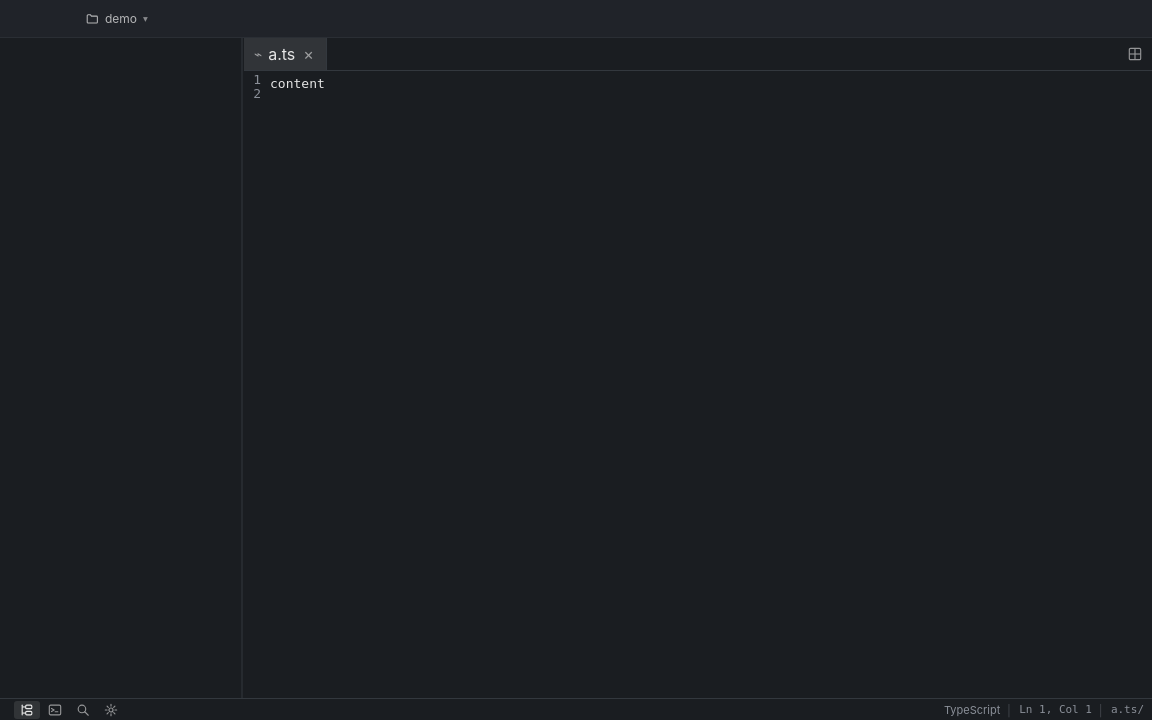
Test: App editor split panes (issue #158) › scenario 1: splitting a pane with a single open file duplicates that file into a second pane
This screenshot has width=1152, height=720.
Click the button named "Split editor": (1135, 54) [1122, 43, 1148, 65]
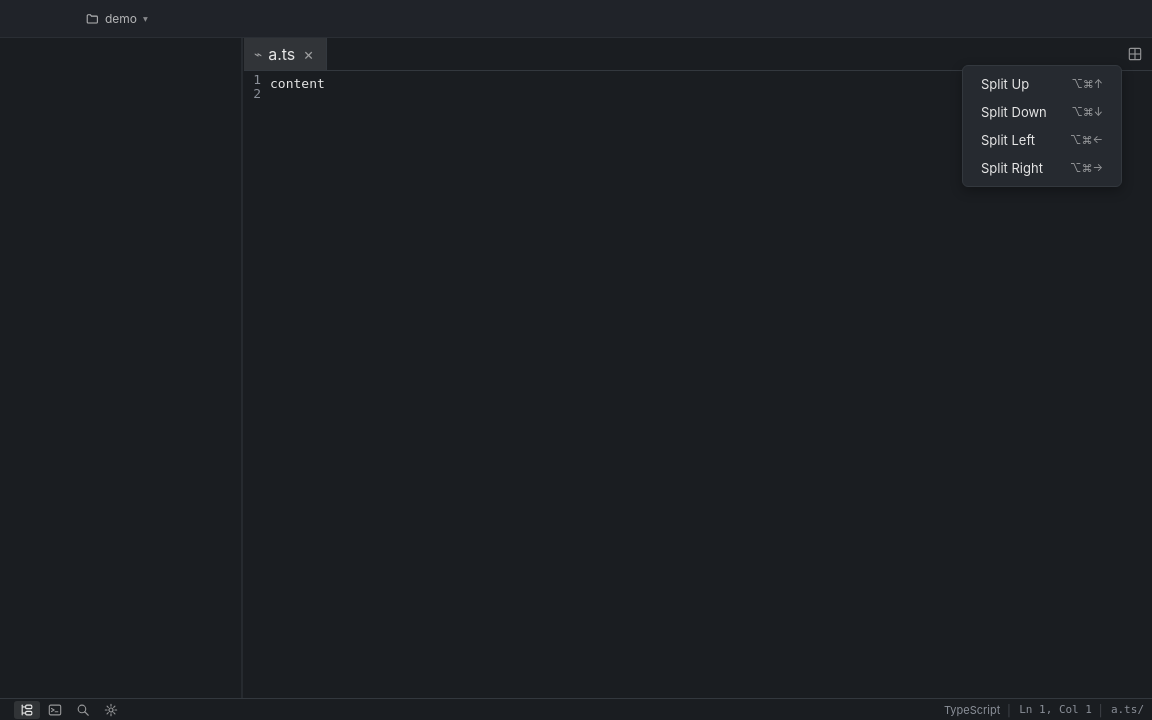
Click the menu item "Split Right ⌥⌘→": (1042, 168) [967, 154, 1117, 182]
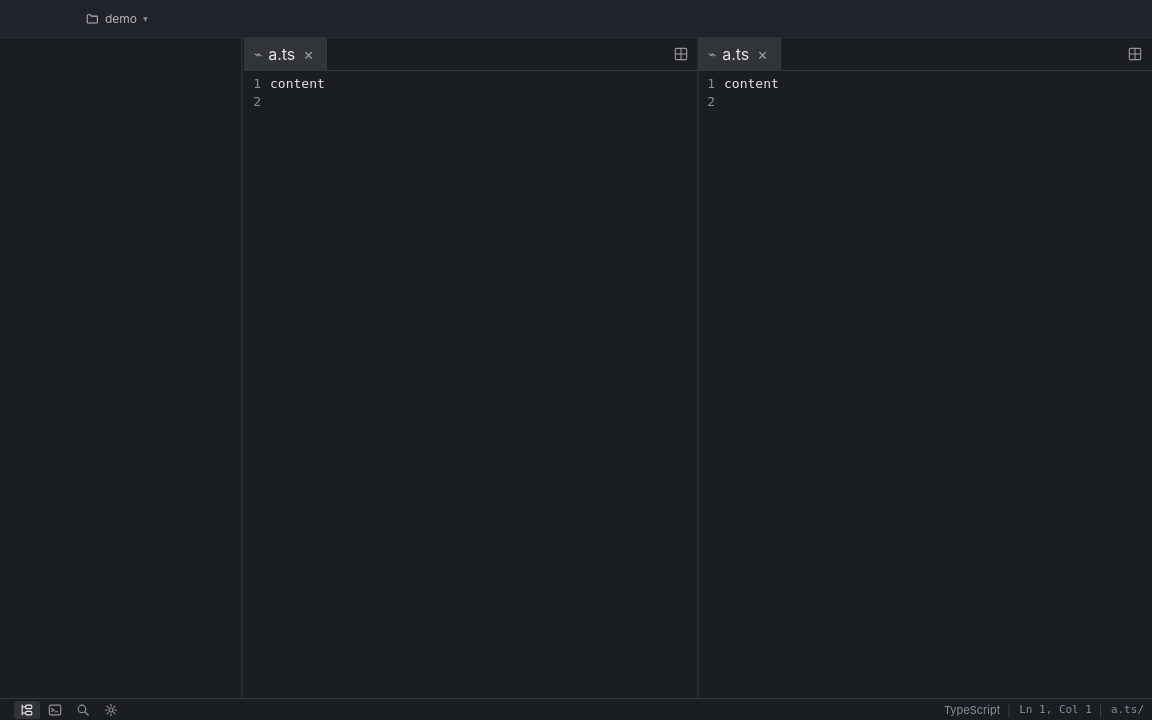
Now the number of elements with class "tab-name" is 2, box [268, 44, 295, 64]; [722, 44, 749, 64]
